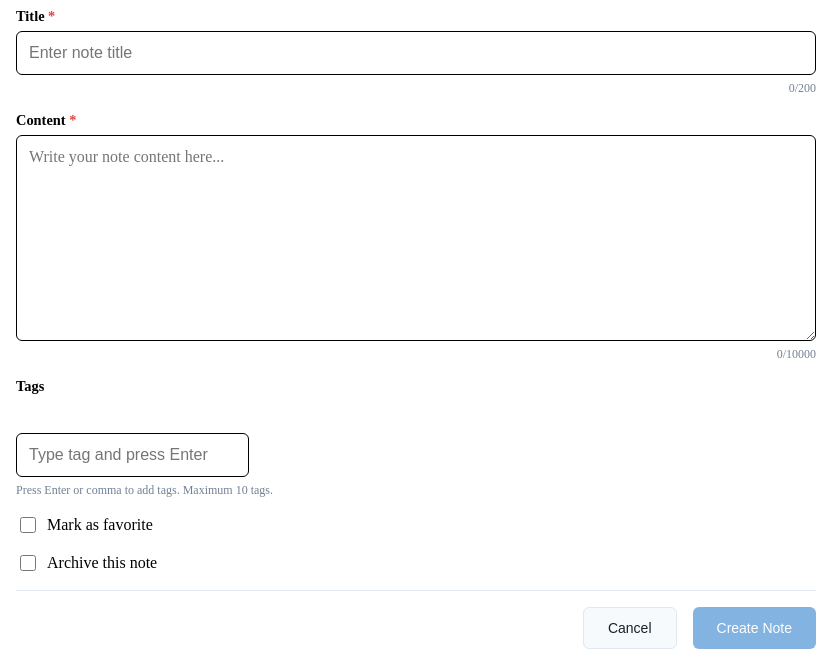
Test case: NotesForm › Tag Management › should add tags on Enter key
The image size is (833, 666).
Type "newtag" into the field with id "tags" at (132, 455), box [16, 433, 249, 477]
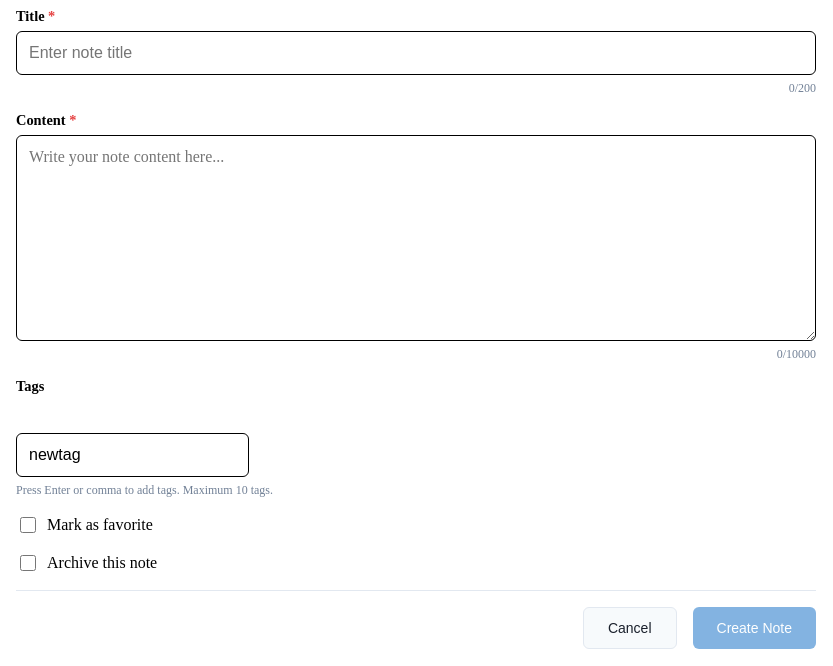
Press Enter in the field with id "tags", box [16, 433, 249, 477]
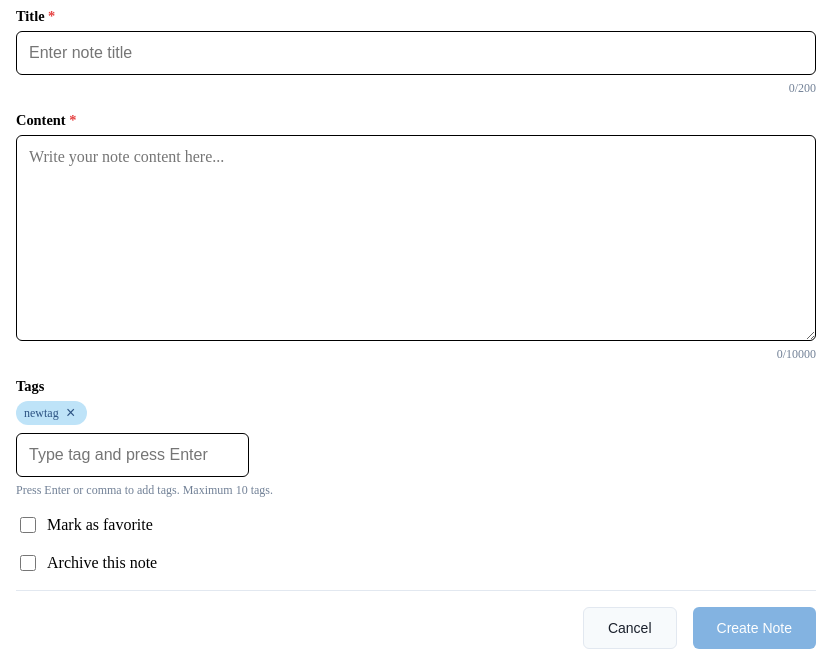
Check: the element with class "tag-chip" shows "newtag", box [24, 406, 59, 420]
Check: the field with id "tags" is empty, box [16, 433, 249, 477]
